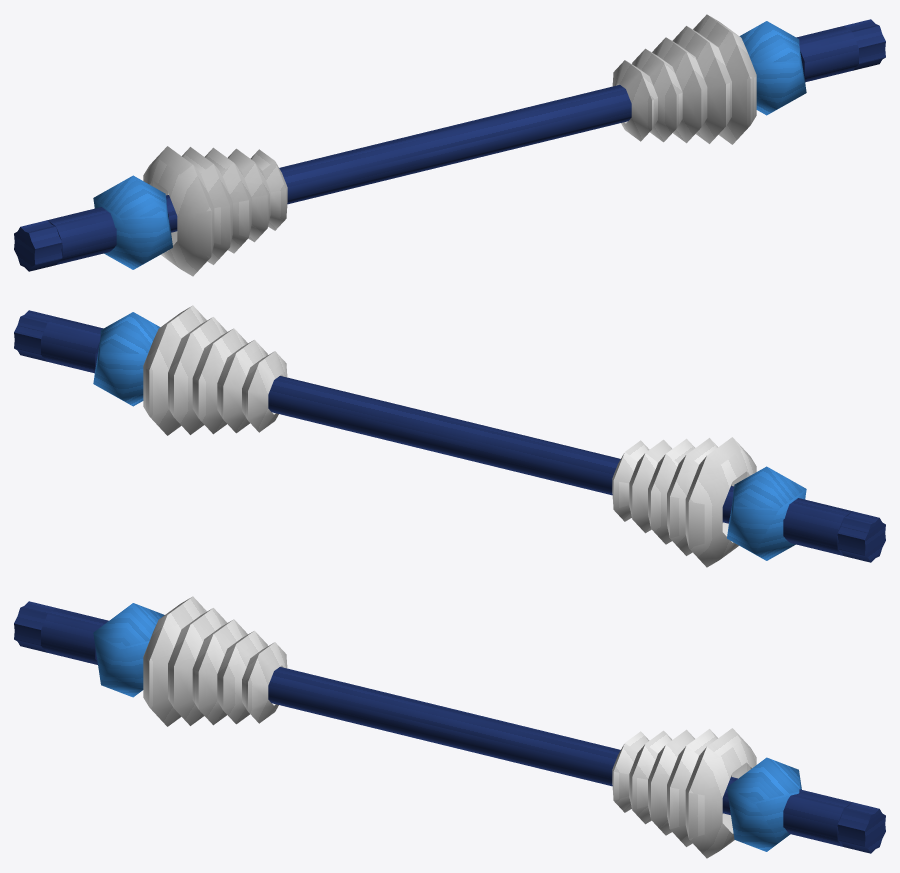
Rendered from semieixos_n2.glb.
3 views of the same model, one above another, from view 1: azimuth 30°, elevation 25°; view 2: azimuth 150°, elevation 25°; view 3: azimuth 330°, elevation 25° (orthographic).
Visible parts, largest first — view 1: semieixos_n2; view 2: semieixos_n2; view 3: semieixos_n2.
Part boxes in pixels (x1=…): semieixos_n2: x1=14, y1=14, x2=885, y2=276; semieixos_n2: x1=14, y1=305, x2=885, y2=567; semieixos_n2: x1=14, y1=596, x2=885, y2=858.
Size of the model in its own units: 0.94 by 0.1183 by 0.1183.
2 materials, 2 textured.
